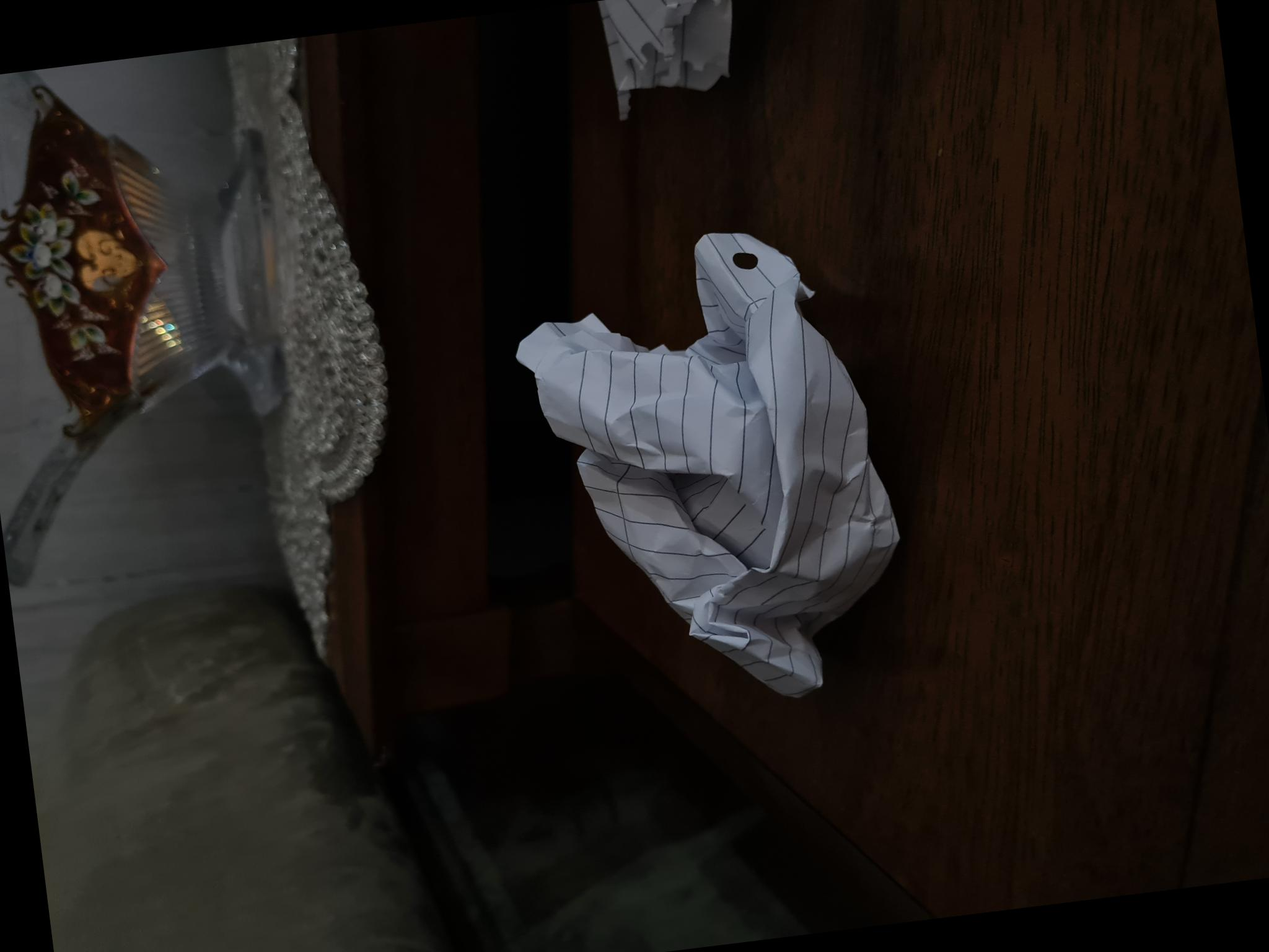Kertas: (276, 537, 738, 918), (853, 616, 987, 750)
